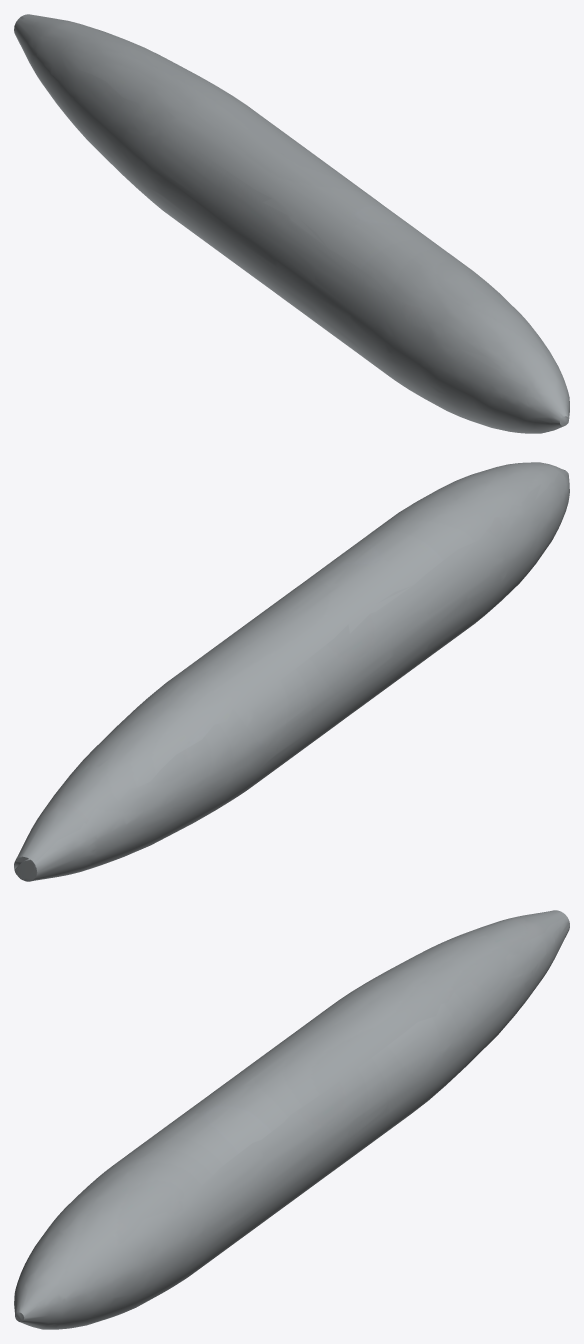
File: rpl701.glb
The picture shows the model from 3 angles, top to bottom: view 1: azimuth 30°, elevation 25°; view 2: azimuth 150°, elevation 25°; view 3: azimuth 330°, elevation 25°; orthographic projection.
Parts seen in each view (by area): view 1: airframe; view 2: airframe; view 3: airframe.
Boxes of the visible parts, x1=… form: airframe: x1=14, y1=14, x2=569, y2=433; airframe: x1=14, y1=462, x2=569, y2=881; airframe: x1=14, y1=910, x2=569, y2=1329.
Size of the model in its own units: 0.6648 by 0.6645 by 5.31.
1 material, 1 textured.
